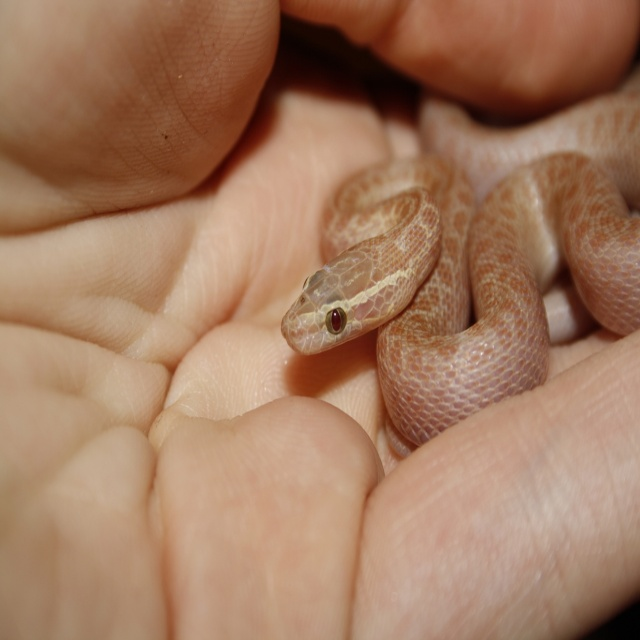Snake: (283, 84, 640, 456)
